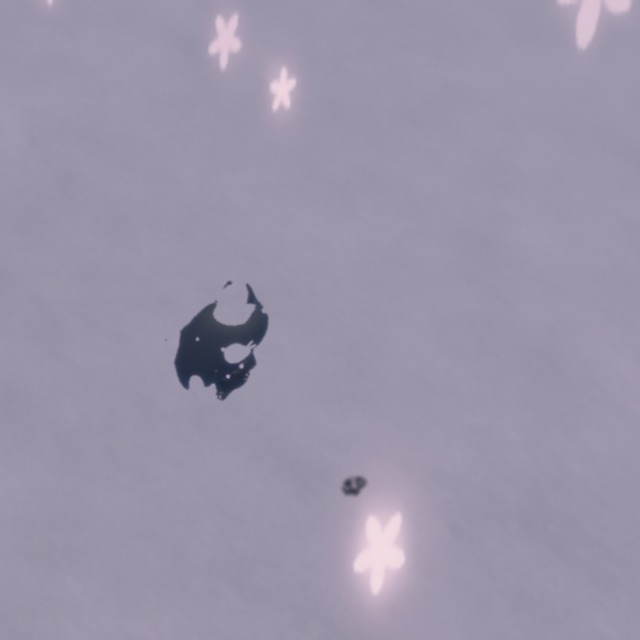urso_preto: (130, 247, 314, 437), (339, 470, 372, 501)
